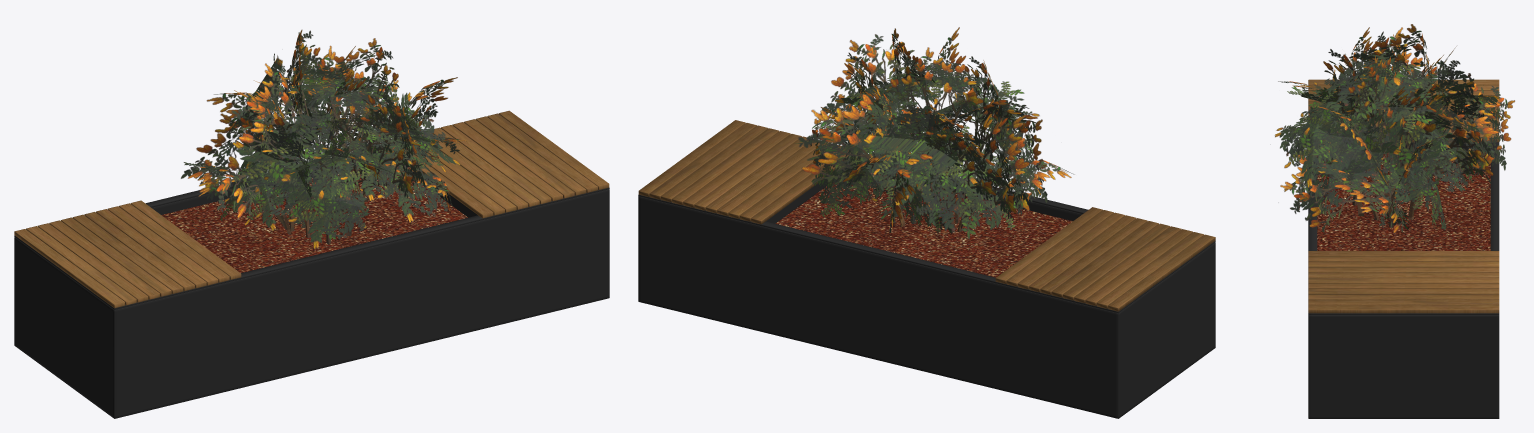
File: Plant_E.glb
3 renders of one model, left to right at view 1: azimuth 30°, elevation 25°; view 2: azimuth 150°, elevation 25°; view 3: azimuth 270°, elevation 25°, orthographic. The views are drawn at different scales.
Visible parts, largest first — view 1: Plant_E_instance.001; view 2: Plant_E_instance.001; view 3: Plant_E_instance.001.
Boxes of the visible parts, x1,y1,x2,y2 form: Plant_E_instance.001: (14,30,609,418); Plant_E_instance.001: (638,27,1215,418); Plant_E_instance.001: (1274,24,1514,418).
Bounding box in the file's own units: 1.62 × 0.9447 × 0.8193.
4 materials, 3 textured.
